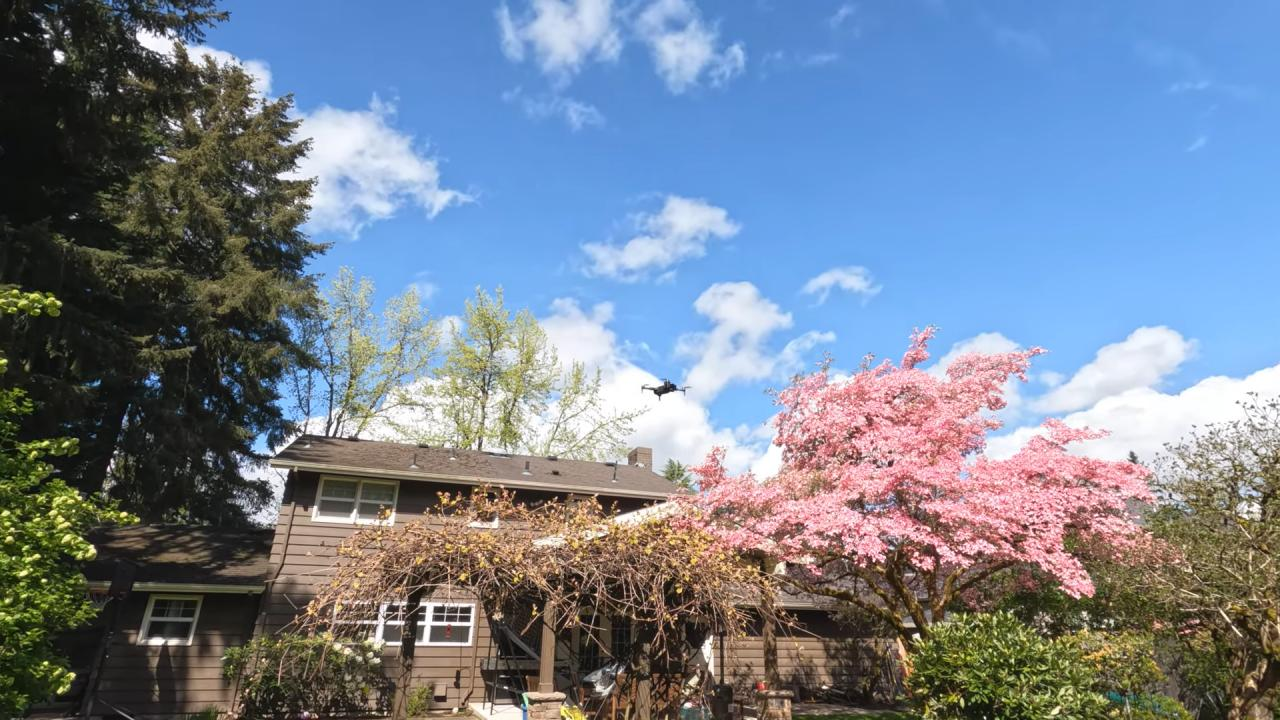Drone: (632, 370, 700, 408)
